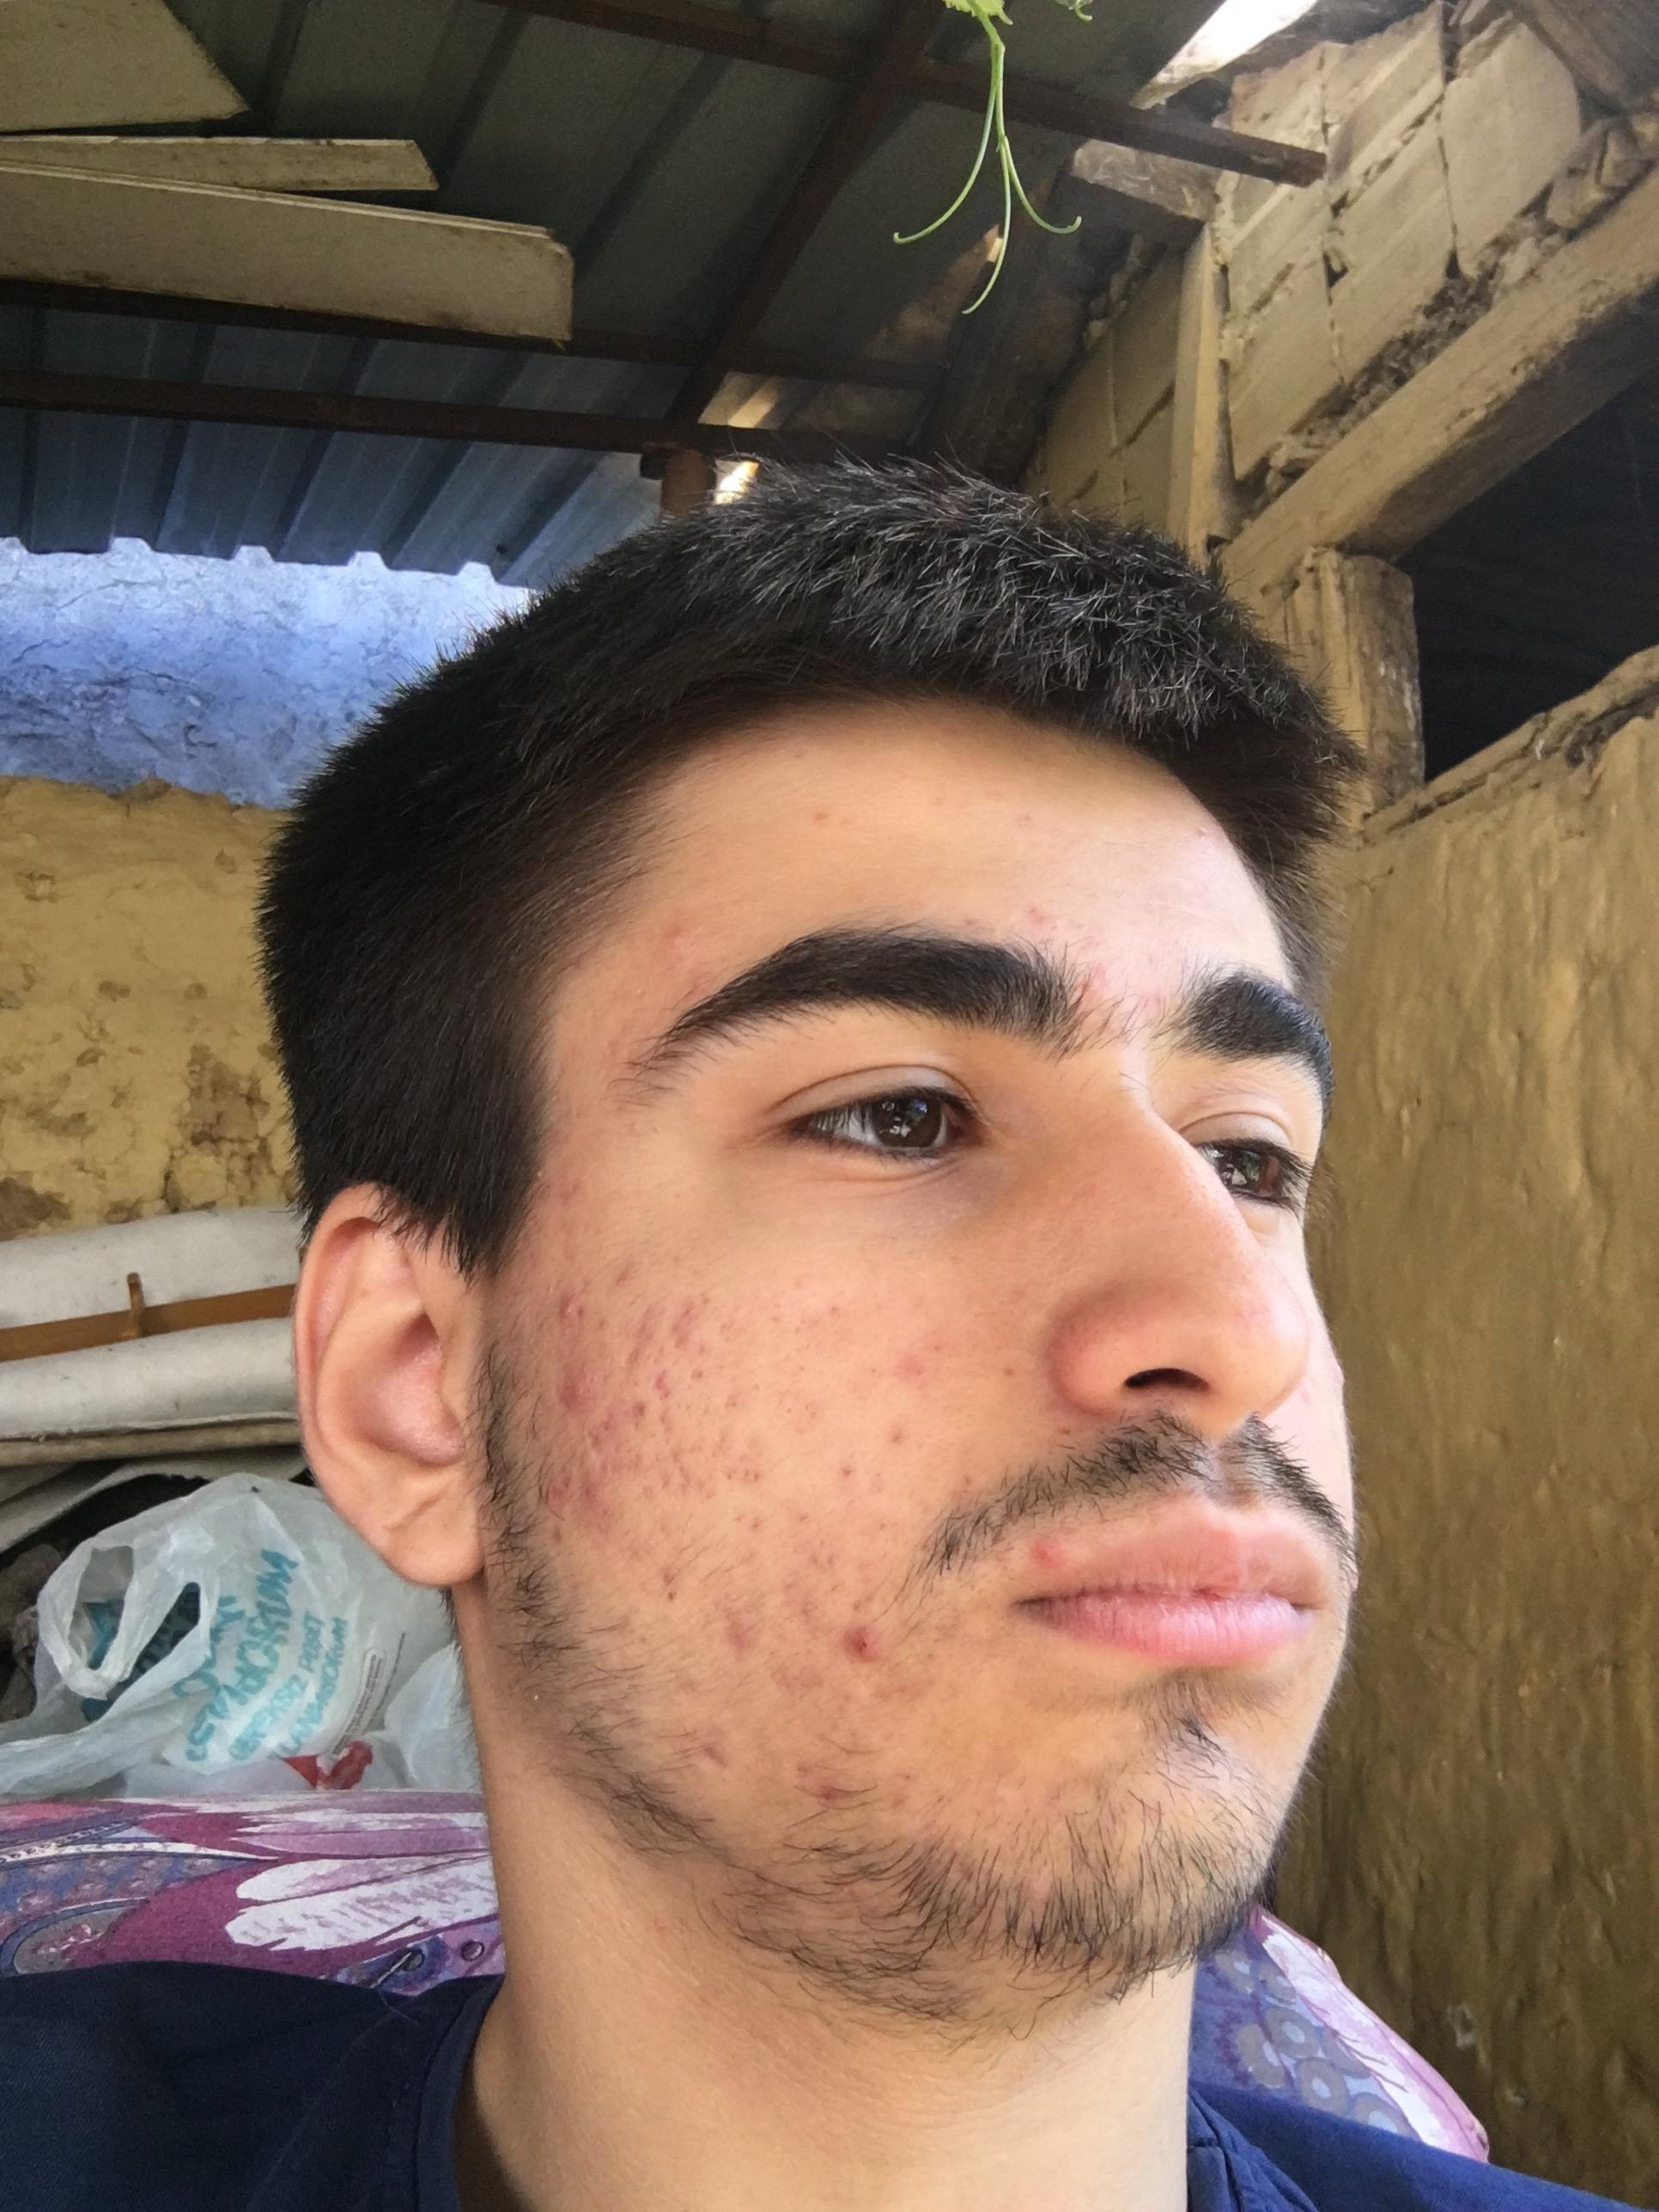Acne: (648, 1374, 701, 1494), (789, 1756, 854, 1810), (786, 1517, 850, 1569), (775, 1576, 824, 1642), (582, 1399, 622, 1463), (617, 1305, 659, 1366), (681, 1730, 737, 1773), (586, 1467, 624, 1529), (772, 1381, 821, 1430), (718, 1602, 762, 1653), (540, 1470, 584, 1519), (554, 1362, 592, 1413), (667, 1292, 699, 1352), (650, 920, 694, 961), (723, 1451, 775, 1484), (843, 1627, 884, 1667), (1026, 1531, 1068, 1569), (889, 1346, 932, 1383), (648, 1564, 685, 1608), (1073, 963, 1114, 996), (708, 1308, 741, 1346), (608, 1258, 640, 1291), (552, 1289, 584, 1320), (544, 1519, 568, 1554), (1025, 902, 1056, 928), (742, 1505, 769, 1536), (716, 1385, 742, 1414), (1298, 1381, 1317, 1420), (925, 789, 951, 815), (807, 805, 831, 831), (1011, 808, 1037, 833), (817, 1303, 845, 1325), (1190, 815, 1213, 843), (631, 1395, 648, 1428), (791, 1275, 812, 1301), (974, 782, 1000, 799), (889, 1425, 908, 1447), (838, 1463, 854, 1480)
